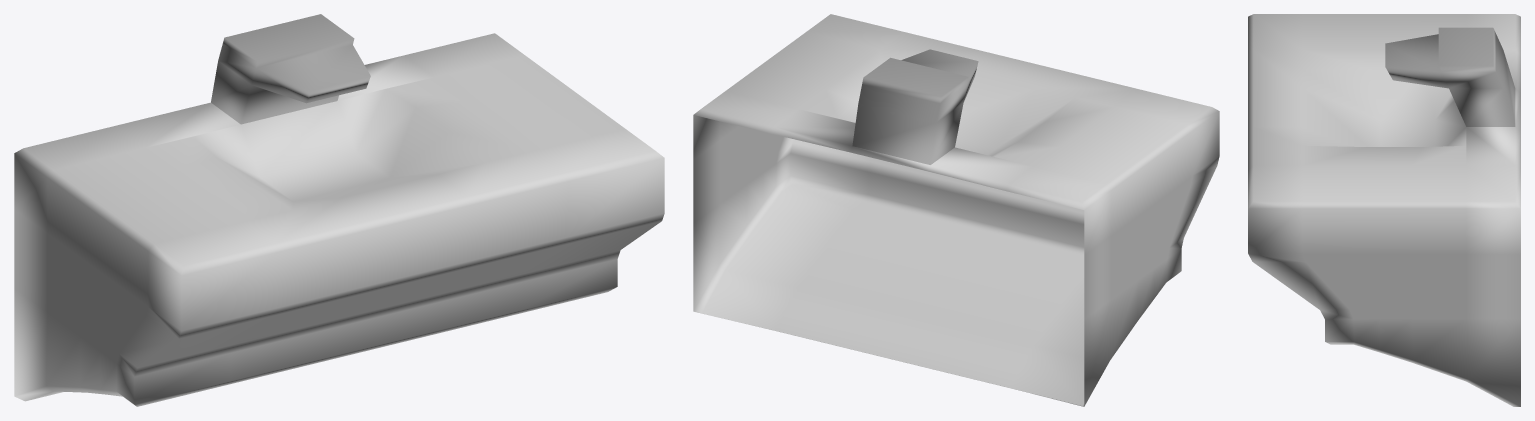
Rendered from Sink.fbx.
3 views of the same model, side by side, from view 1: azimuth 30°, elevation 25°; view 2: azimuth 150°, elevation 25°; view 3: azimuth 270°, elevation 25° (orthographic). The views are drawn at different scales.
Parts seen in each view (by area): view 1: Sink1; view 2: Sink1; view 3: Sink1.
Part boxes in pixels (x1,y1,x2,y2): Sink1: (14, 14, 664, 406); Sink1: (693, 14, 1219, 406); Sink1: (1248, 14, 1520, 406).
Size of the model in its own units: 105 by 67.81 by 62.81.
